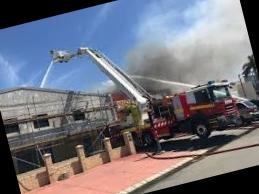Smoke: (106, 0, 257, 110)
